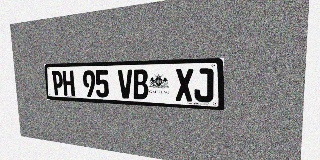5: (95, 70, 109, 98)
9: (82, 70, 96, 97)
B: (133, 69, 149, 100)
H: (62, 70, 75, 96)
J: (194, 68, 214, 103)
P: (52, 71, 64, 96)
V: (118, 70, 133, 99)
X: (175, 69, 193, 102)
